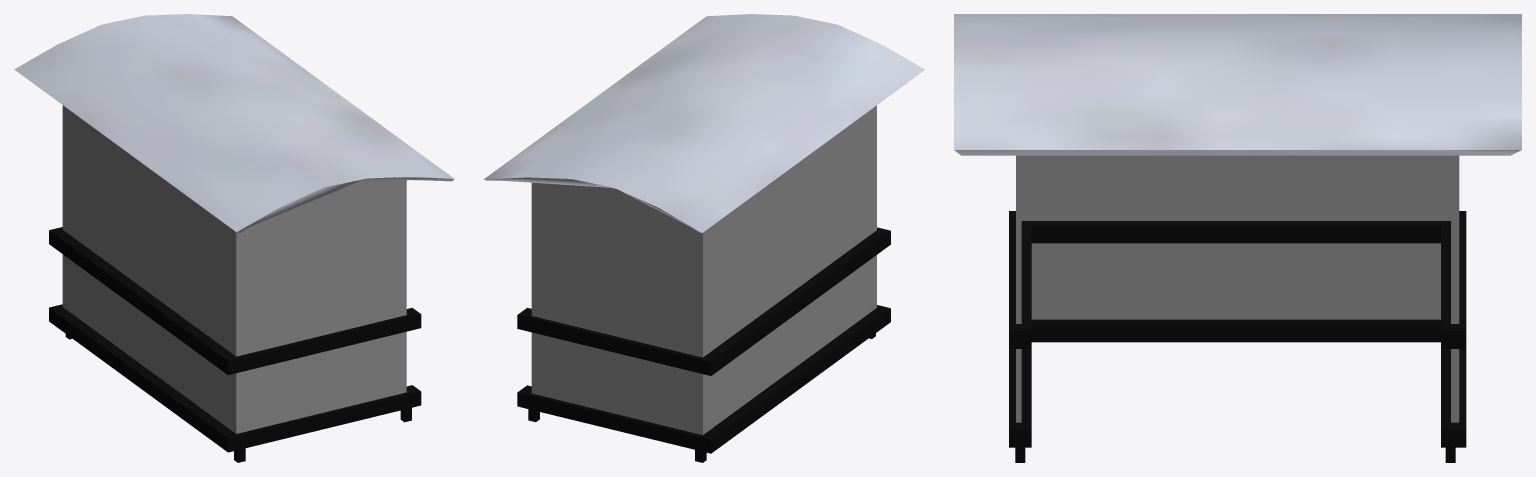
Rendered from BusStop.FBX.
The picture shows the model from 3 angles, left to right: view 1: azimuth 30°, elevation 25°; view 2: azimuth 150°, elevation 25°; view 3: azimuth 270°, elevation 25°; orthographic projection. The views are drawn at different scales.
Parts seen in each view (by area): view 1: BusStop; view 2: BusStop; view 3: BusStop.
Boxes of the visible parts, left/top/right/bottom form: BusStop: left=14, top=14, right=454, bottom=462; BusStop: left=483, top=14, right=925, bottom=462; BusStop: left=954, top=14, right=1521, bottom=462.
Bounding box in the file's own units: 2.1 × 2.56 × 3.71.
